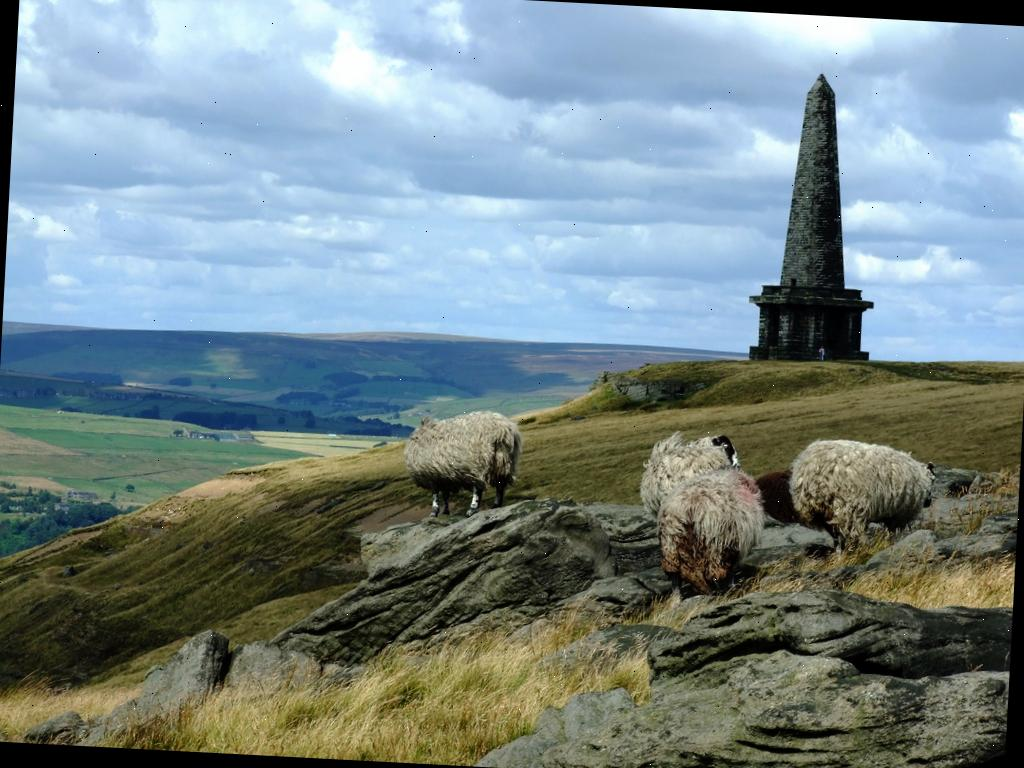Sheep: (778, 428, 952, 550), (644, 459, 772, 597), (397, 406, 526, 520), (634, 426, 754, 518)
